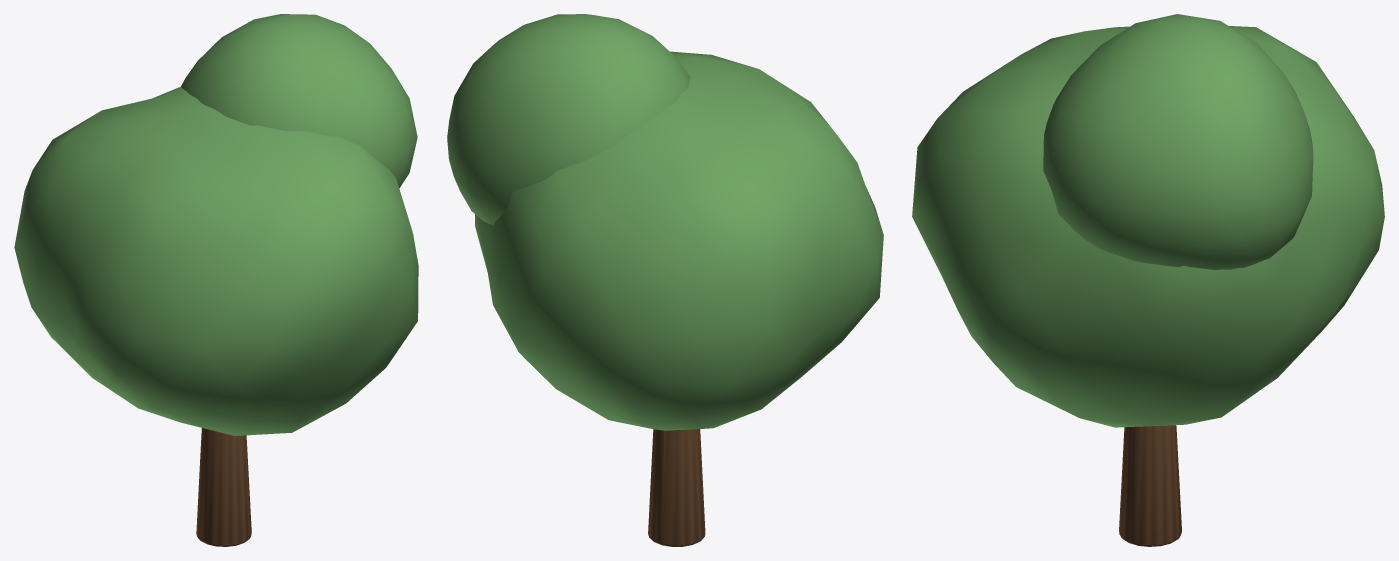
The model's file is tree_b.glb.
3 views of the same model, side by side, from view 1: azimuth 30°, elevation 25°; view 2: azimuth 150°, elevation 25°; view 3: azimuth 270°, elevation 25° (orthographic). The views are drawn at different scales.
Visible parts, largest first — view 1: f1, f2, trunk; view 2: f1, f2, trunk; view 3: f1, f2, trunk.
Boxes of the visible parts, left/top/right/bottom form: f1: left=14, top=87, right=418, bottom=435; f2: left=181, top=14, right=417, bottom=187; trunk: left=196, top=428, right=251, bottom=546; f1: left=475, top=51, right=883, bottom=430; f2: left=447, top=14, right=690, bottom=225; trunk: left=648, top=429, right=705, bottom=546; f1: left=912, top=26, right=1384, bottom=427; f2: left=1043, top=14, right=1313, bottom=269; trunk: left=1119, top=425, right=1181, bottom=546.
Size of the model in its own units: 1.71 by 2.25 by 1.76.
